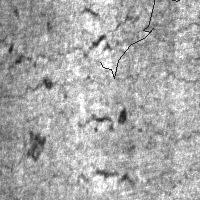crazing: (47, 102, 152, 188), (3, 26, 126, 95), (100, 0, 200, 78), (132, 3, 200, 89)
